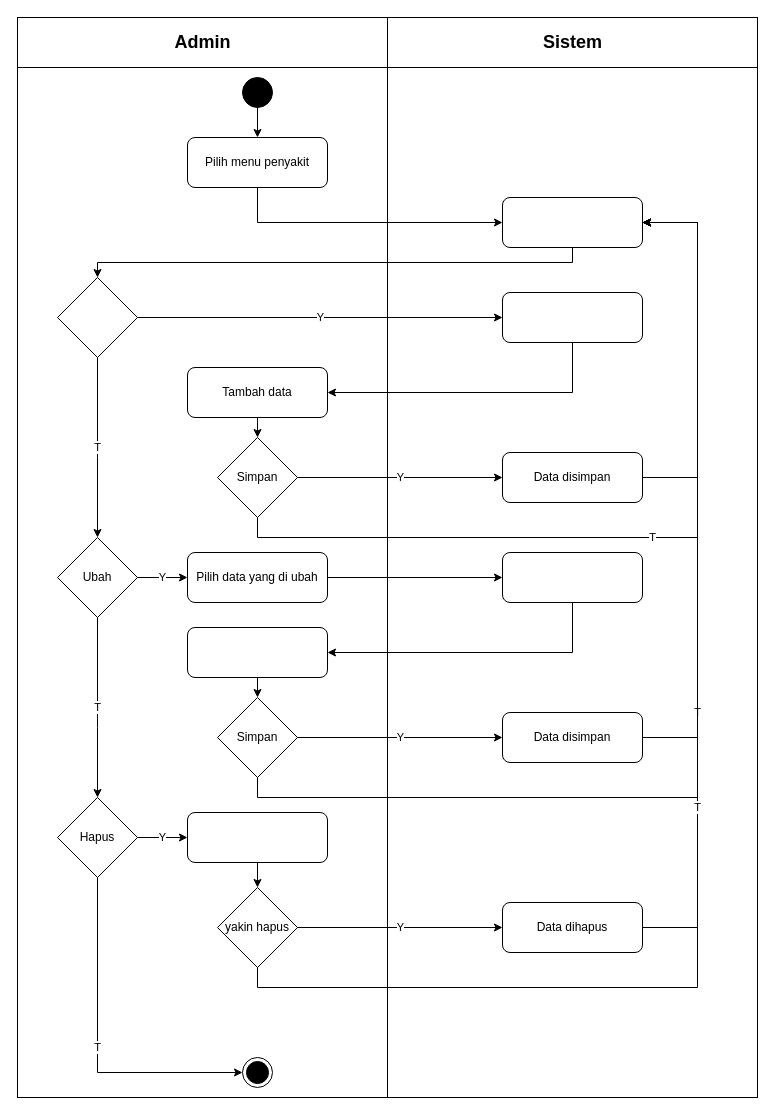
Image size: 775x1115. Some labels were removed from this diagram. Each missing label, with the box of its shape:
Pilih data yang akan dihapus: (186, 812, 328, 862)
Tambah: (56, 276, 138, 358)
Tampil data penyakit: (502, 196, 642, 248)
Tampil form tambah: (502, 292, 642, 342)
Tampil form ubah: (502, 552, 642, 602)
Ubah data: (186, 626, 328, 678)
